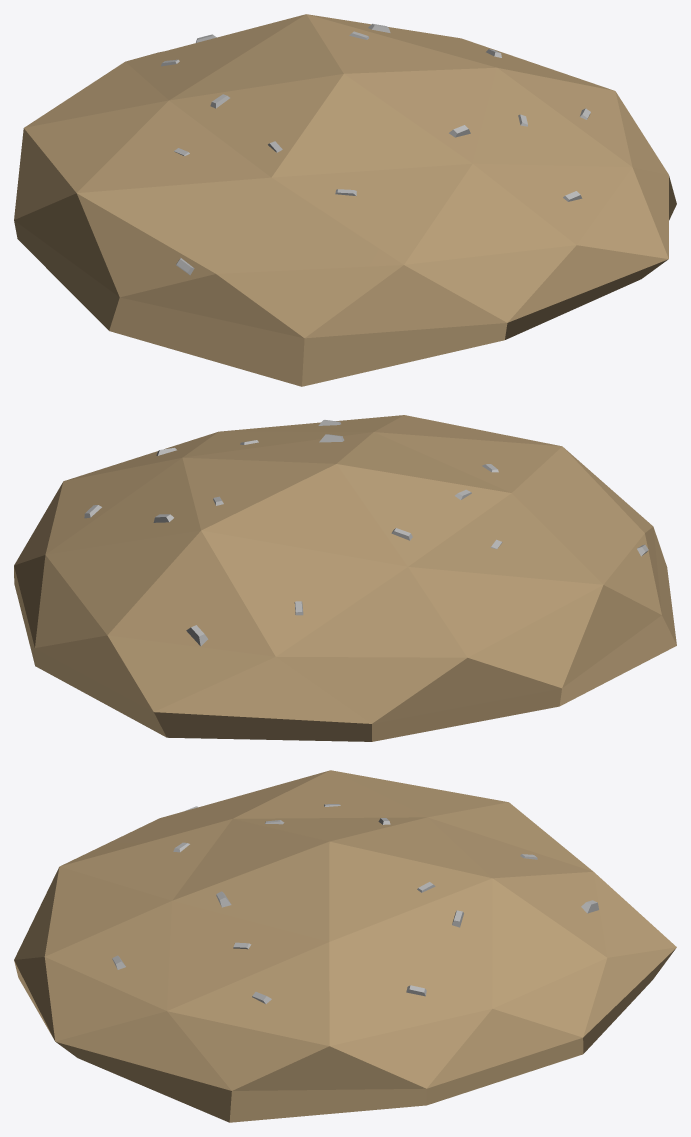
Rendered from Burger_Bread.glb.
3 renders of one model, top to bottom at view 1: azimuth 30°, elevation 25°; view 2: azimuth 150°, elevation 25°; view 3: azimuth 270°, elevation 25°, orthographic. The views are drawn at different scales.
Parts seen in each view (by area): view 1: Burger_Bread; view 2: Burger_Bread; view 3: Burger_Bread.
Boxes of the visible parts, x1,y1,x2,y2 form: Burger_Bread: (14,14,676,386); Burger_Bread: (14,415,676,741); Burger_Bread: (14,770,676,1122).
Size of the model in its own units: 1.48 by 0.4047 by 1.58.
